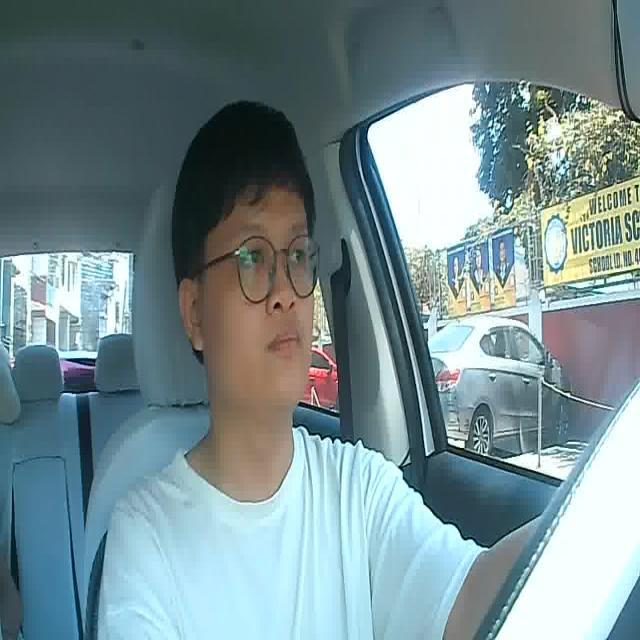Attentive: (174, 105, 320, 422)
Eye-Open: (239, 245, 271, 271), (285, 246, 308, 268)
Normal: (269, 328, 306, 363)
